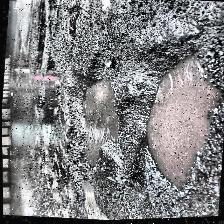pothole: (132, 48, 224, 204), (66, 70, 132, 180)
